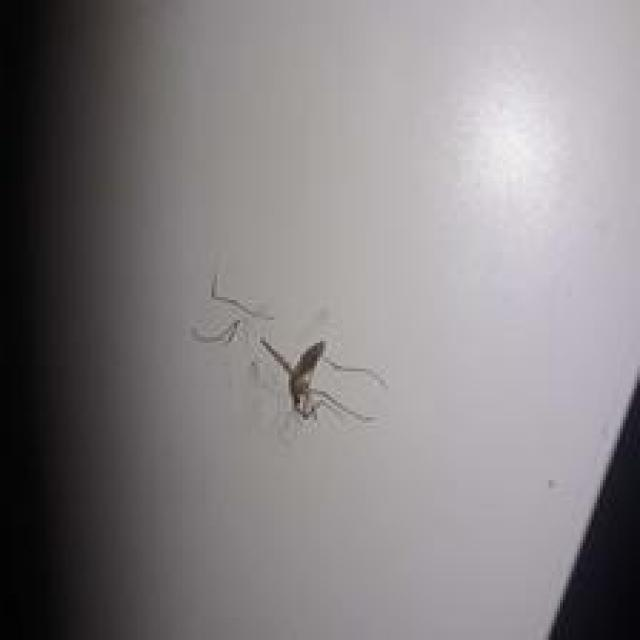Culex: (259, 334, 387, 426)
